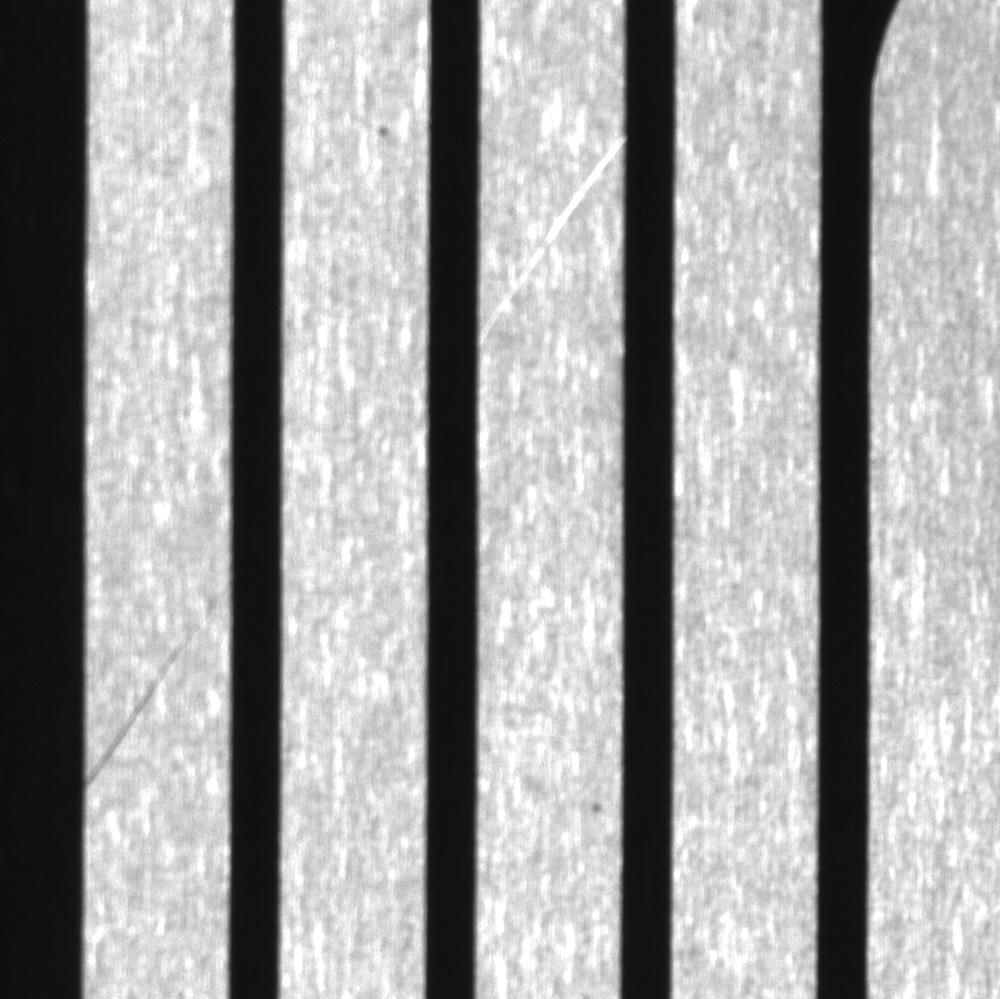Pinhole: (353, 100, 408, 162), (580, 784, 615, 829)
Scar: (477, 117, 626, 339), (83, 581, 224, 781)
